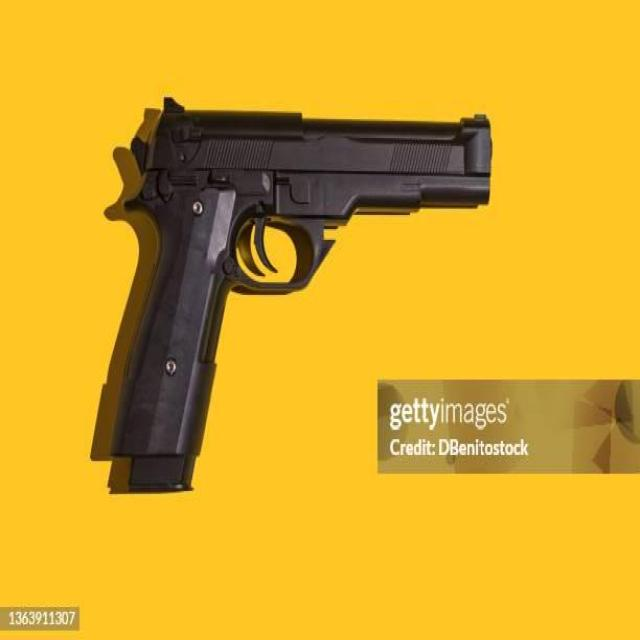gun: (113, 97, 494, 494)
